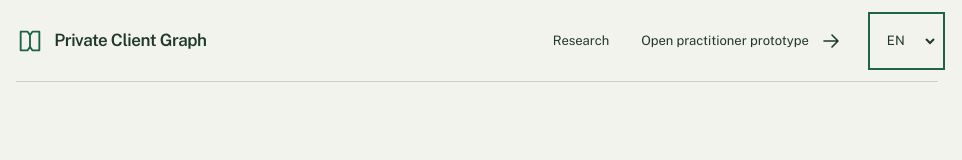
Test: language selection translates shared navigation and persists the preference without moving focus
Select "中文" in the dropdown named "Language": (906, 40) 875,18 -> 938,62
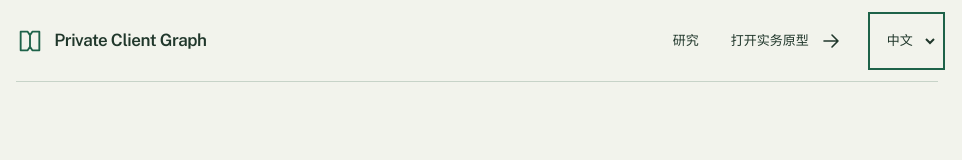
Now the navigation bar named "主导航" is shown, box 673,18 -> 938,62
